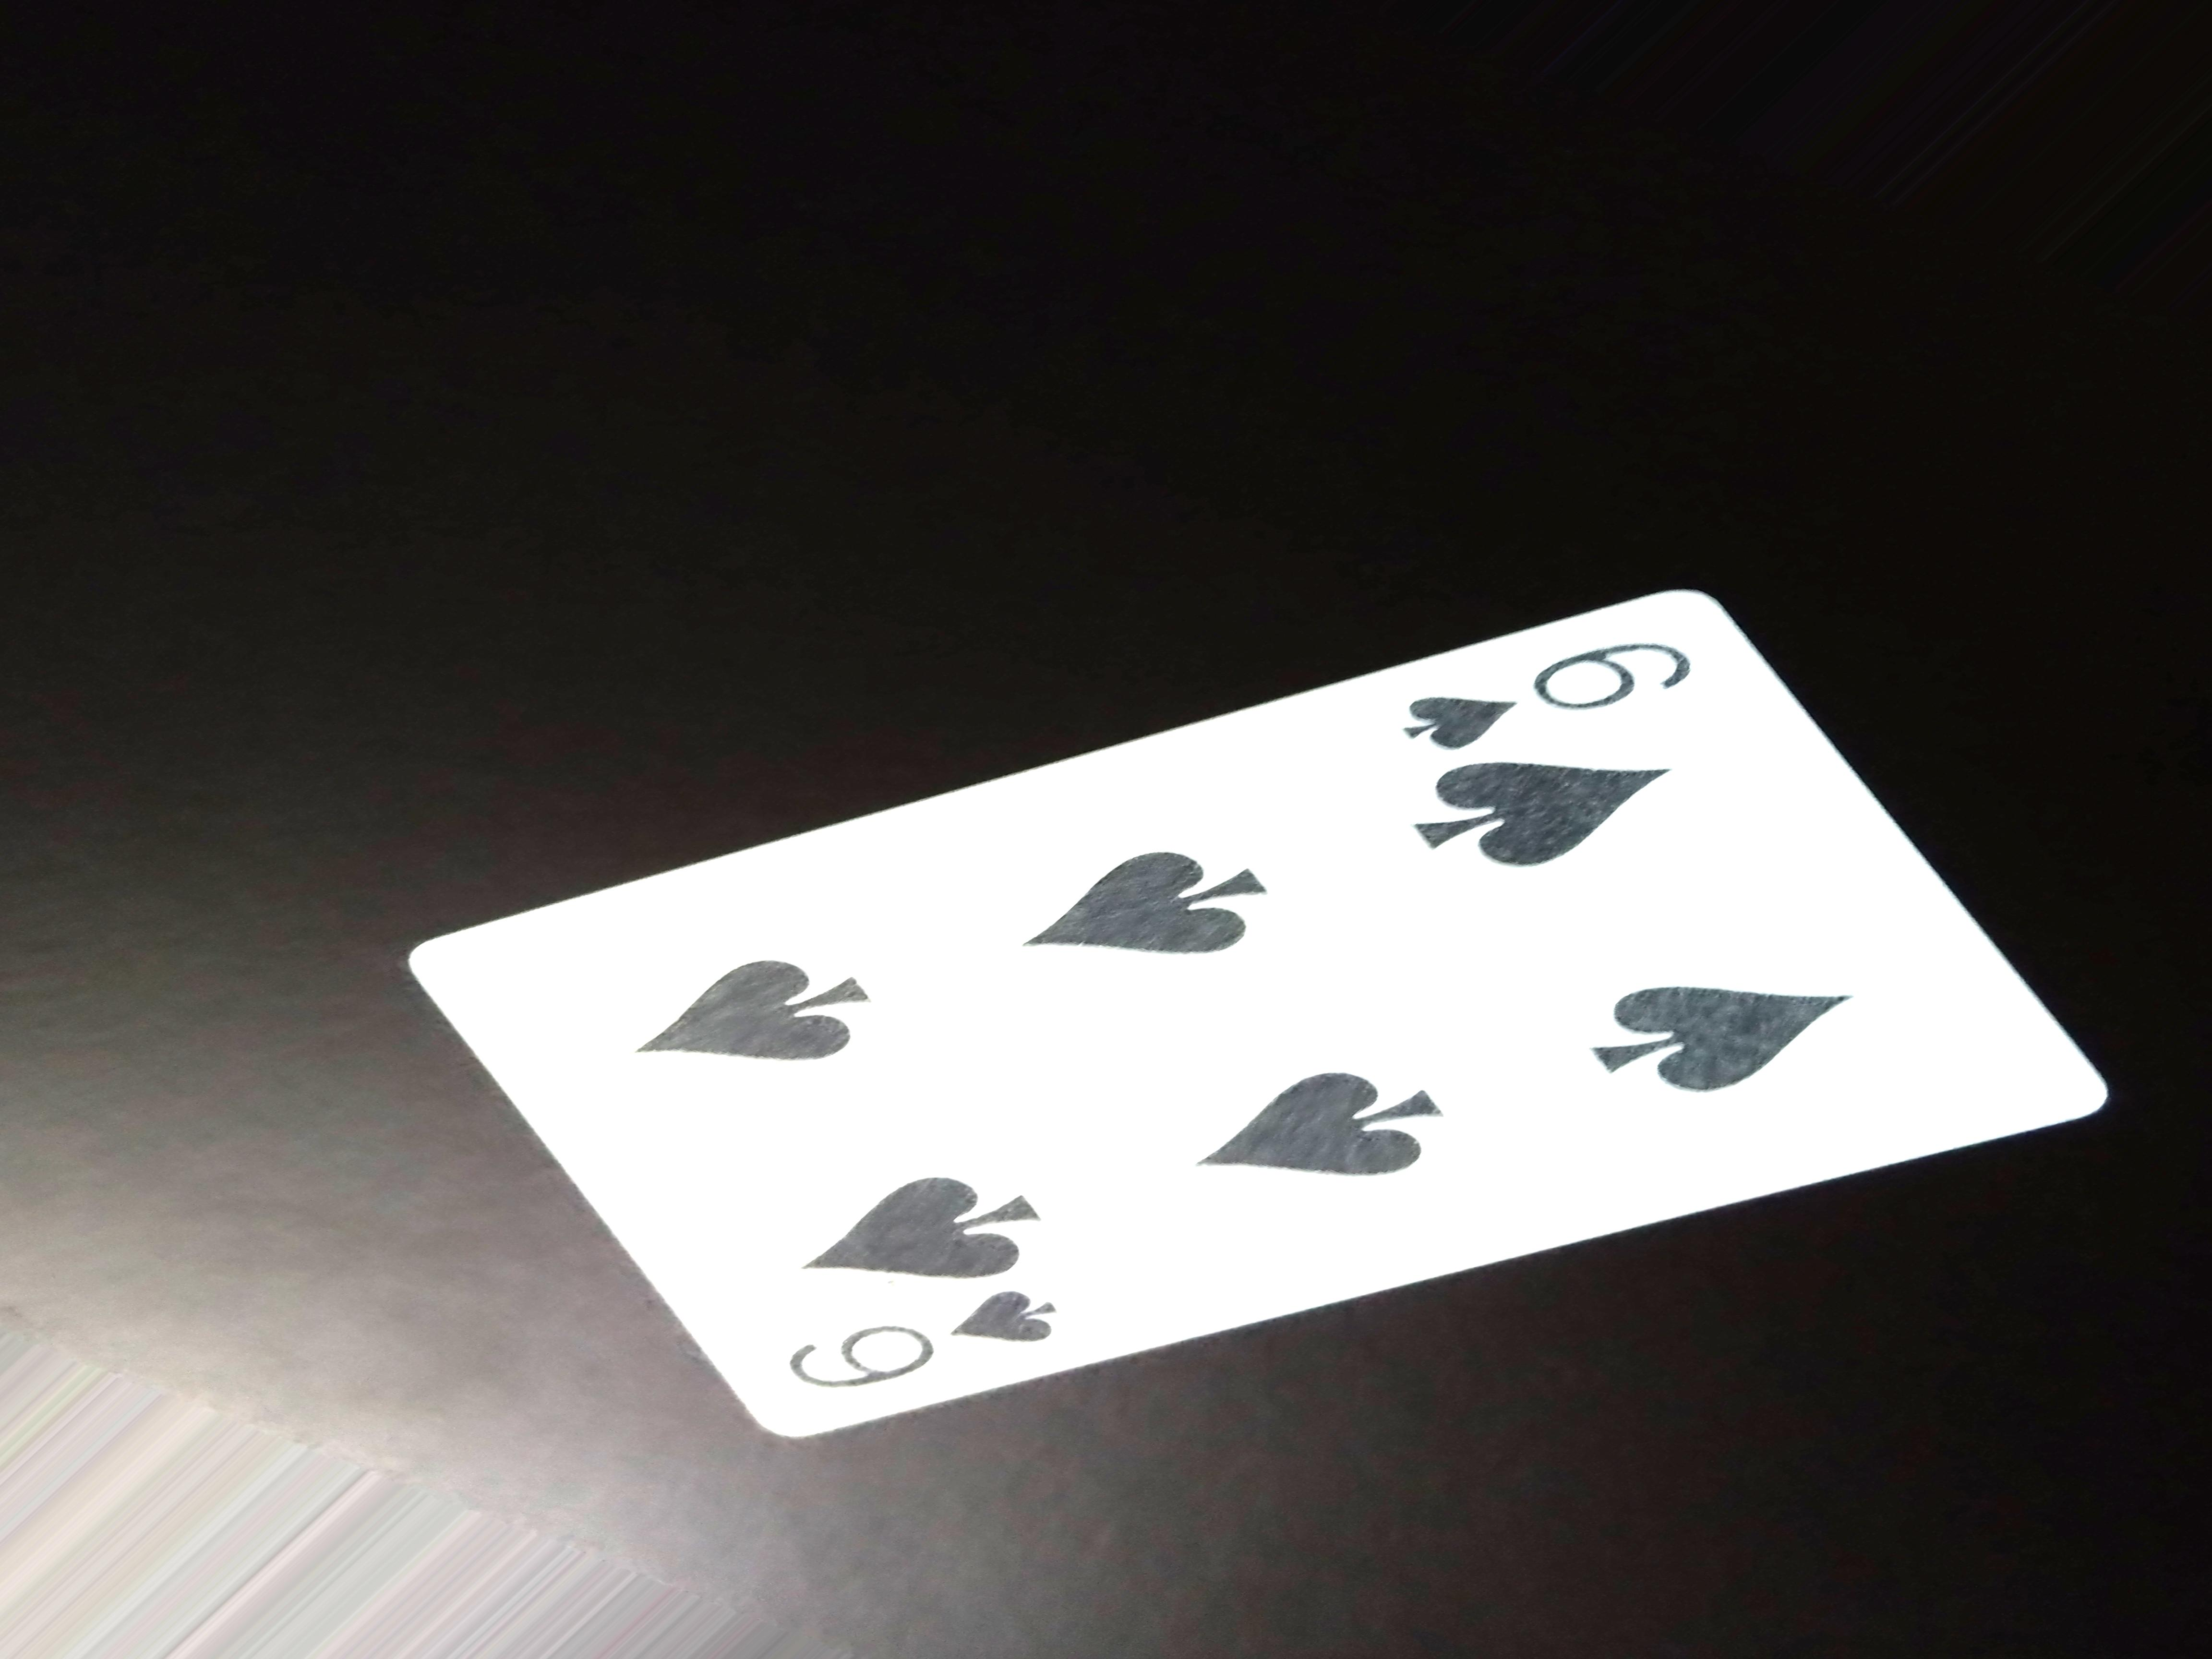6S: (1386, 626, 1712, 755)
